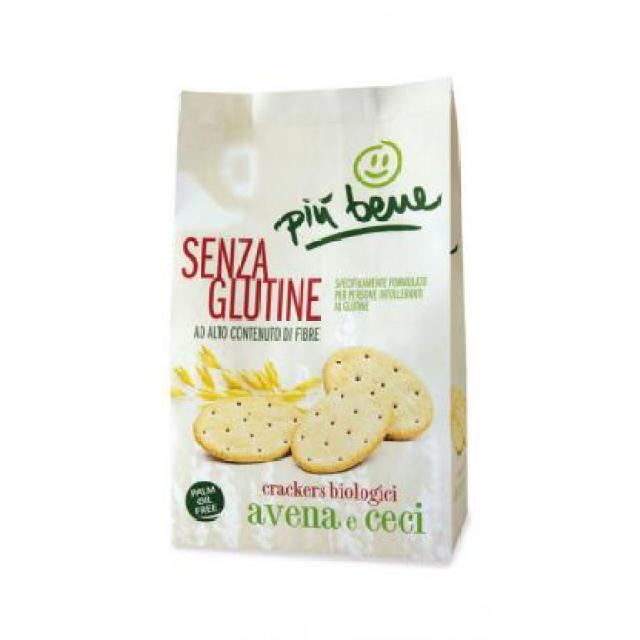Cracker: (172, 87, 474, 564)
